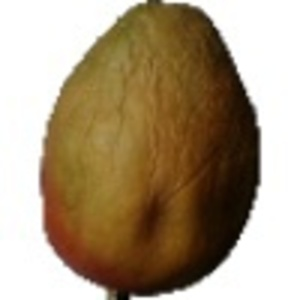mamão: (28, 2, 261, 292)
